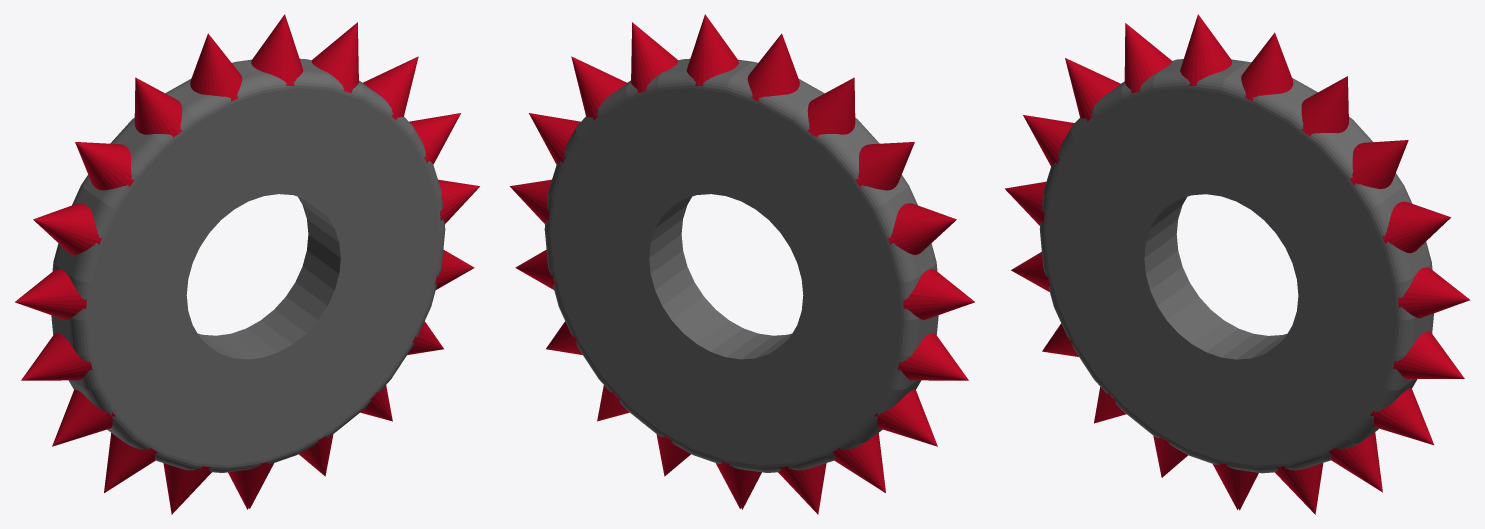
File: Obstacle_03.fbx
The picture shows the model from 3 angles, left to right: view 1: azimuth 30°, elevation 25°; view 2: azimuth 150°, elevation 25°; view 3: azimuth 330°, elevation 25°; orthographic projection.
Visible parts, largest first — view 1: Circle.004, Cone; view 2: Circle.004, Cone; view 3: Circle.004, Cone.
Boxes of the visible parts, <box> form: Circle.004: <box>51,58,445,472</box>; Cone: <box>15,14,479,514</box>; Circle.004: <box>544,58,938,472</box>; Cone: <box>510,14,974,514</box>; Circle.004: <box>1039,59,1433,473</box>; Cone: <box>1005,14,1469,514</box>.
Size of the model in its own units: 249 by 249 by 30.
